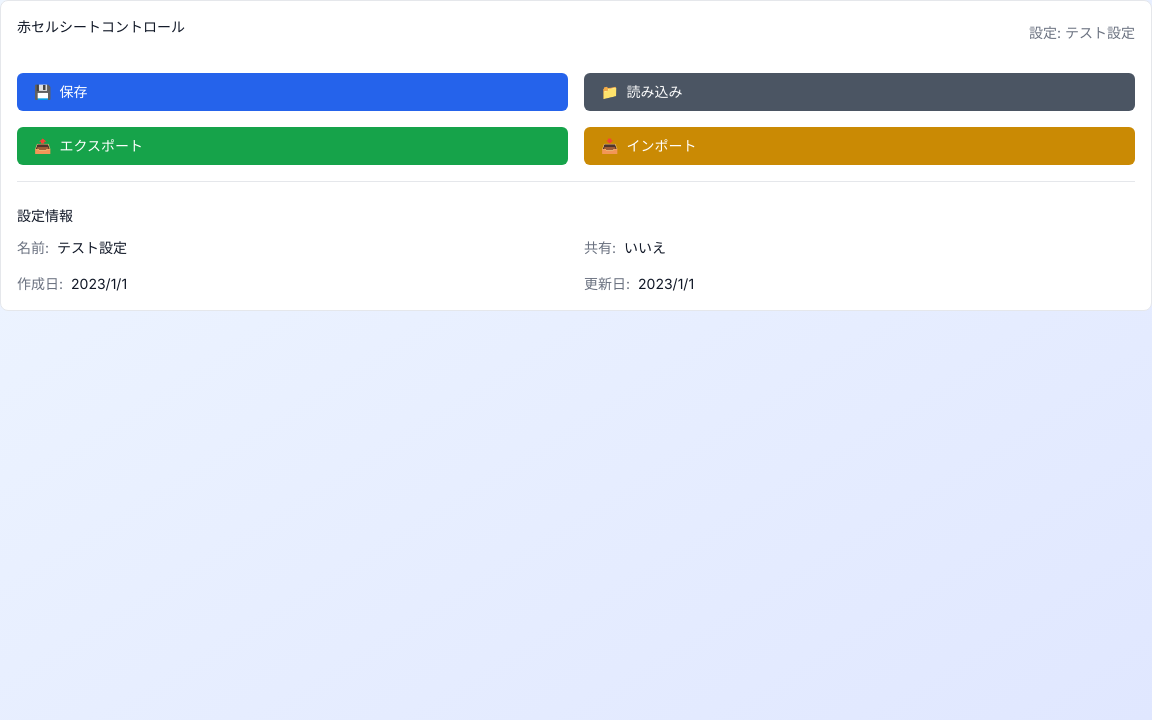
Test: RedactionControls › 状態表示 › should clear error message when clear button is clicked
// エラーを発生させる
Click the button with test id "save-button": click(43, 92) top-left (17, 73), bottom-right (568, 111)
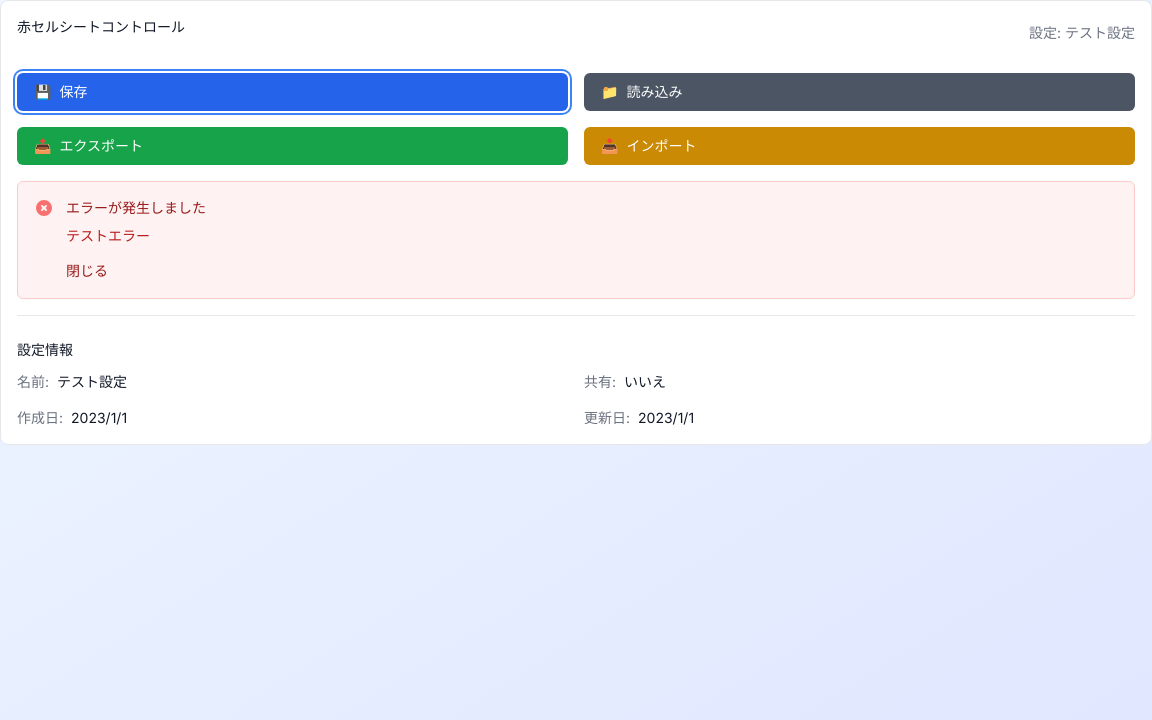
Result: the element with test id "error-message" is shown at top-left (17, 181), bottom-right (1135, 299)
// エラーメッセージをクリア
Click the button with test id "clear-error-button": click(87, 271) top-left (66, 261), bottom-right (108, 281)
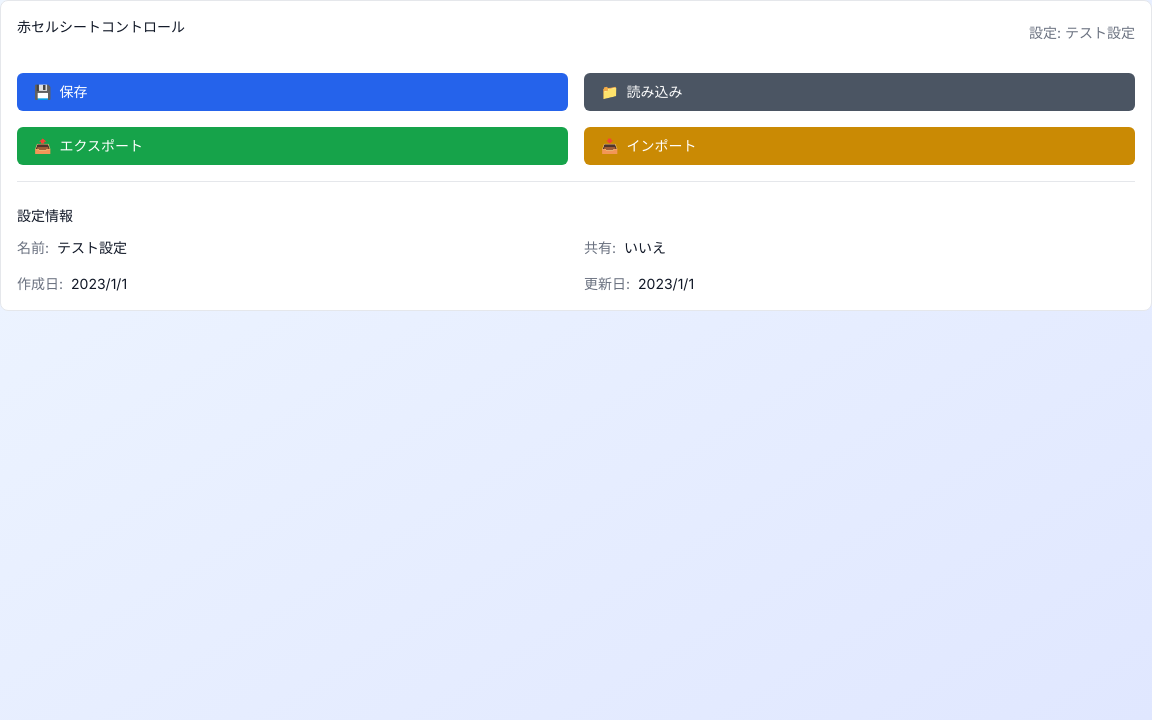
Result: the element with test id "error-message" is gone
